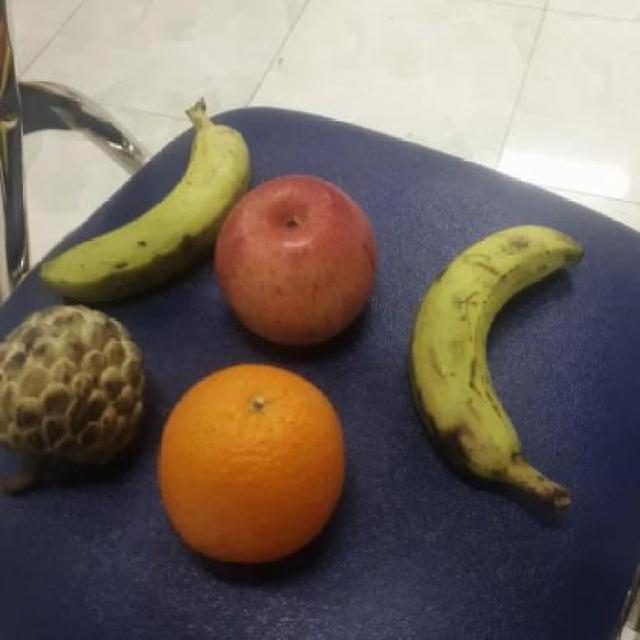apple: (210, 171, 381, 349)
banana: (404, 217, 588, 481), (37, 120, 254, 305)
oren: (155, 361, 350, 565)
sugar apple: (0, 300, 152, 467)
